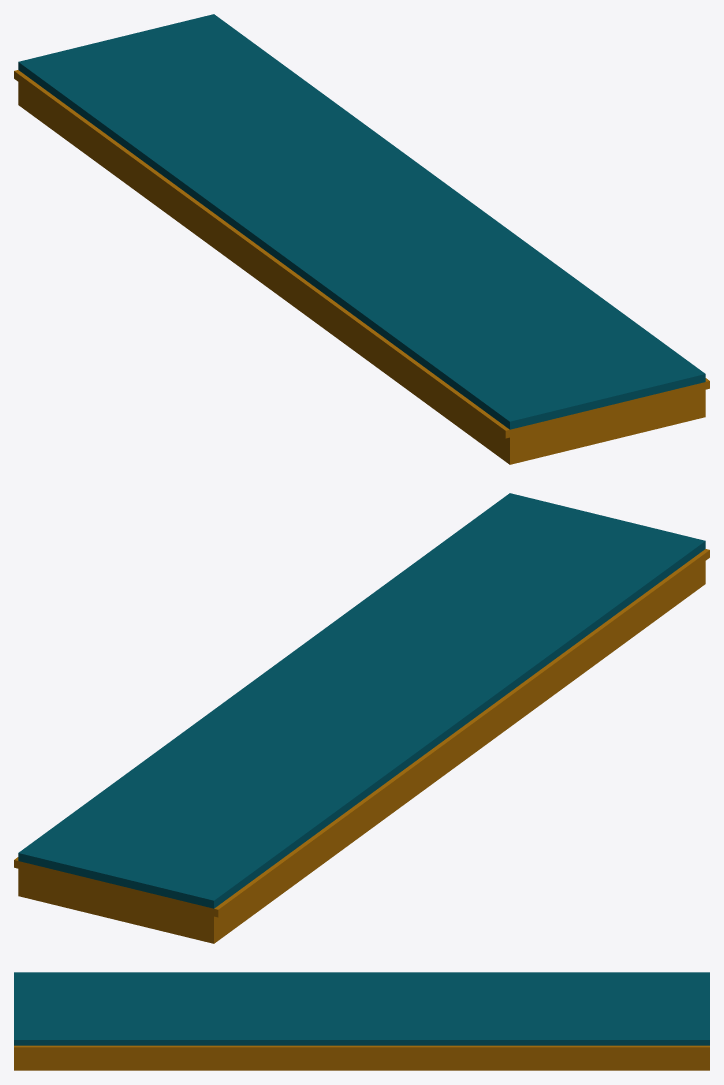
Rendered from narrowBridge.FBX.
3 views of the same model, one above another, from view 1: azimuth 30°, elevation 25°; view 2: azimuth 150°, elevation 25°; view 3: azimuth 270°, elevation 25° (orthographic). The views are drawn at different scales.
Parts seen in each view (by area): view 1: narrowBridge; view 2: narrowBridge; view 3: narrowBridge.
Boxes of the visible parts, x1,y1,x2,y2 form: narrowBridge: (14,14,709,464); narrowBridge: (14,493,709,943); narrowBridge: (14,972,709,1070).
Bounding box in the file's own units: 47.99 × 9.69 × 200.
